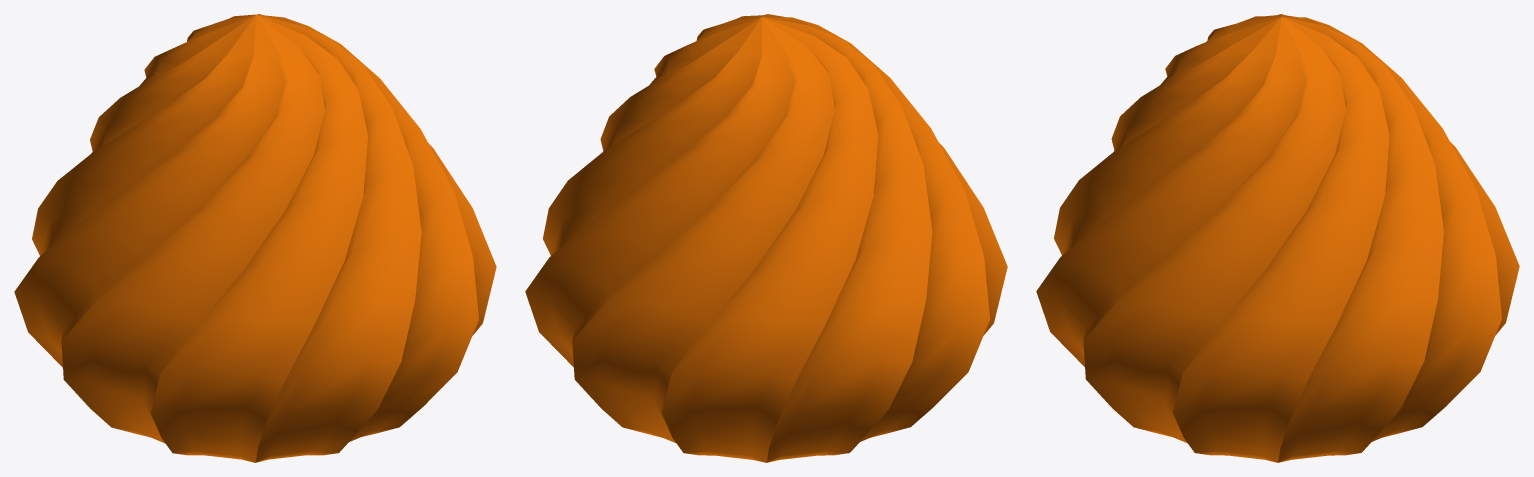
File: Ice Cream Spiral B Brown.fbx
3 views of the same model, side by side, from view 1: azimuth 30°, elevation 25°; view 2: azimuth 150°, elevation 25°; view 3: azimuth 270°, elevation 25° (orthographic).
Parts seen in each view (by area): view 1: Ice Cream Spiral B Brown; view 2: Ice Cream Spiral B Brown; view 3: Ice Cream Spiral B Brown.
Boxes of the visible parts, x1=… form: Ice Cream Spiral B Brown: x1=14, y1=14, x2=496, y2=462; Ice Cream Spiral B Brown: x1=525, y1=14, x2=1007, y2=462; Ice Cream Spiral B Brown: x1=1036, y1=14, x2=1519, y2=462.
Bounding box in the file's own units: 0.4173 × 0.3732 × 0.4173.
